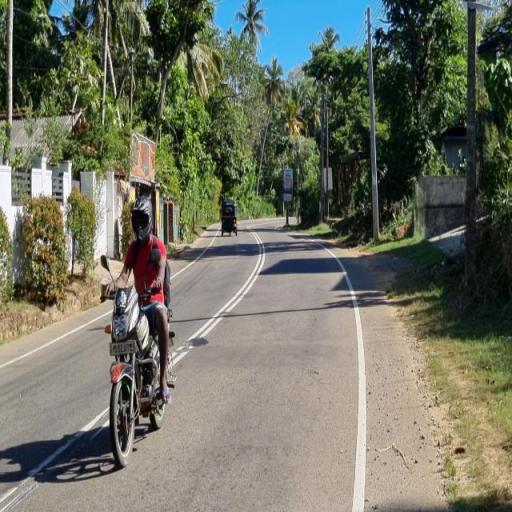double_white_line: (168, 231, 266, 369), (0, 406, 110, 509)
